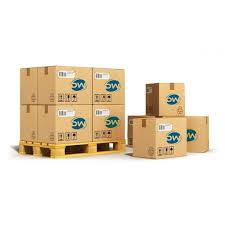box: (56, 66, 93, 104), (56, 104, 92, 142), (155, 118, 188, 159), (93, 66, 126, 105), (93, 105, 125, 141), (132, 118, 156, 160), (159, 82, 186, 117), (18, 66, 37, 106), (37, 104, 56, 144), (37, 66, 56, 105), (19, 104, 38, 143)
pallet: (16, 137, 129, 160)
